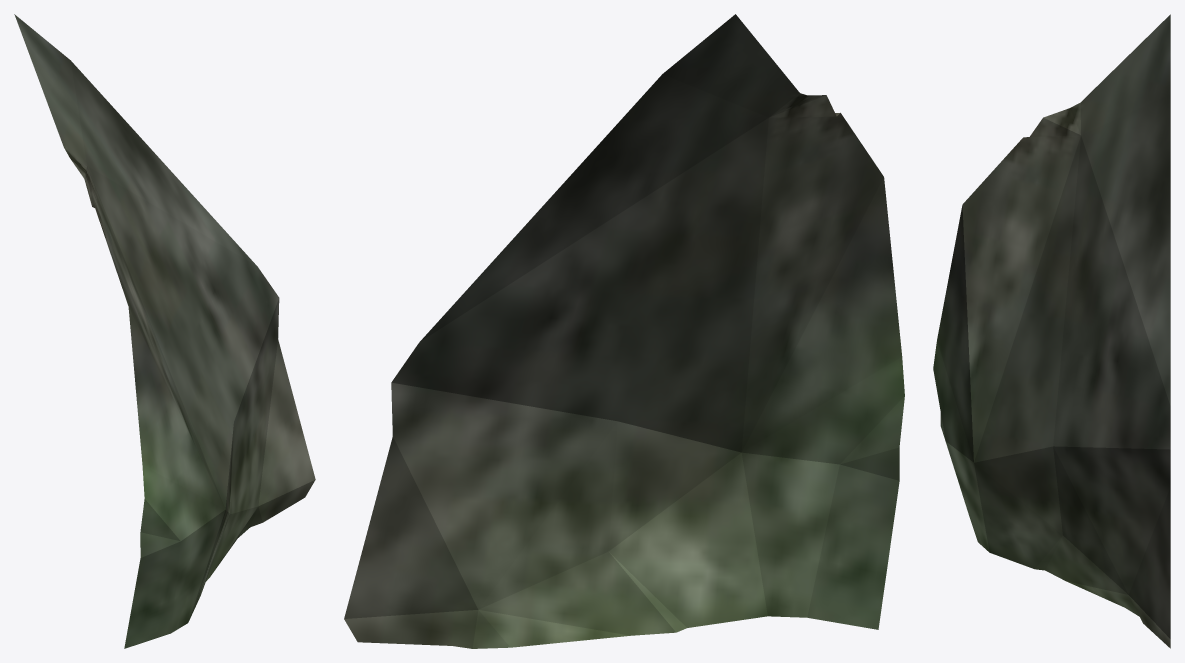
3 views of the same model, side by side, from view 1: azimuth 30°, elevation 25°; view 2: azimuth 150°, elevation 25°; view 3: azimuth 270°, elevation 25° (orthographic). The views are drawn at different scales.
Bounding box in the file's own units: 0.8981 × 1.58 × 0.6725.
1 material, 1 textured.
